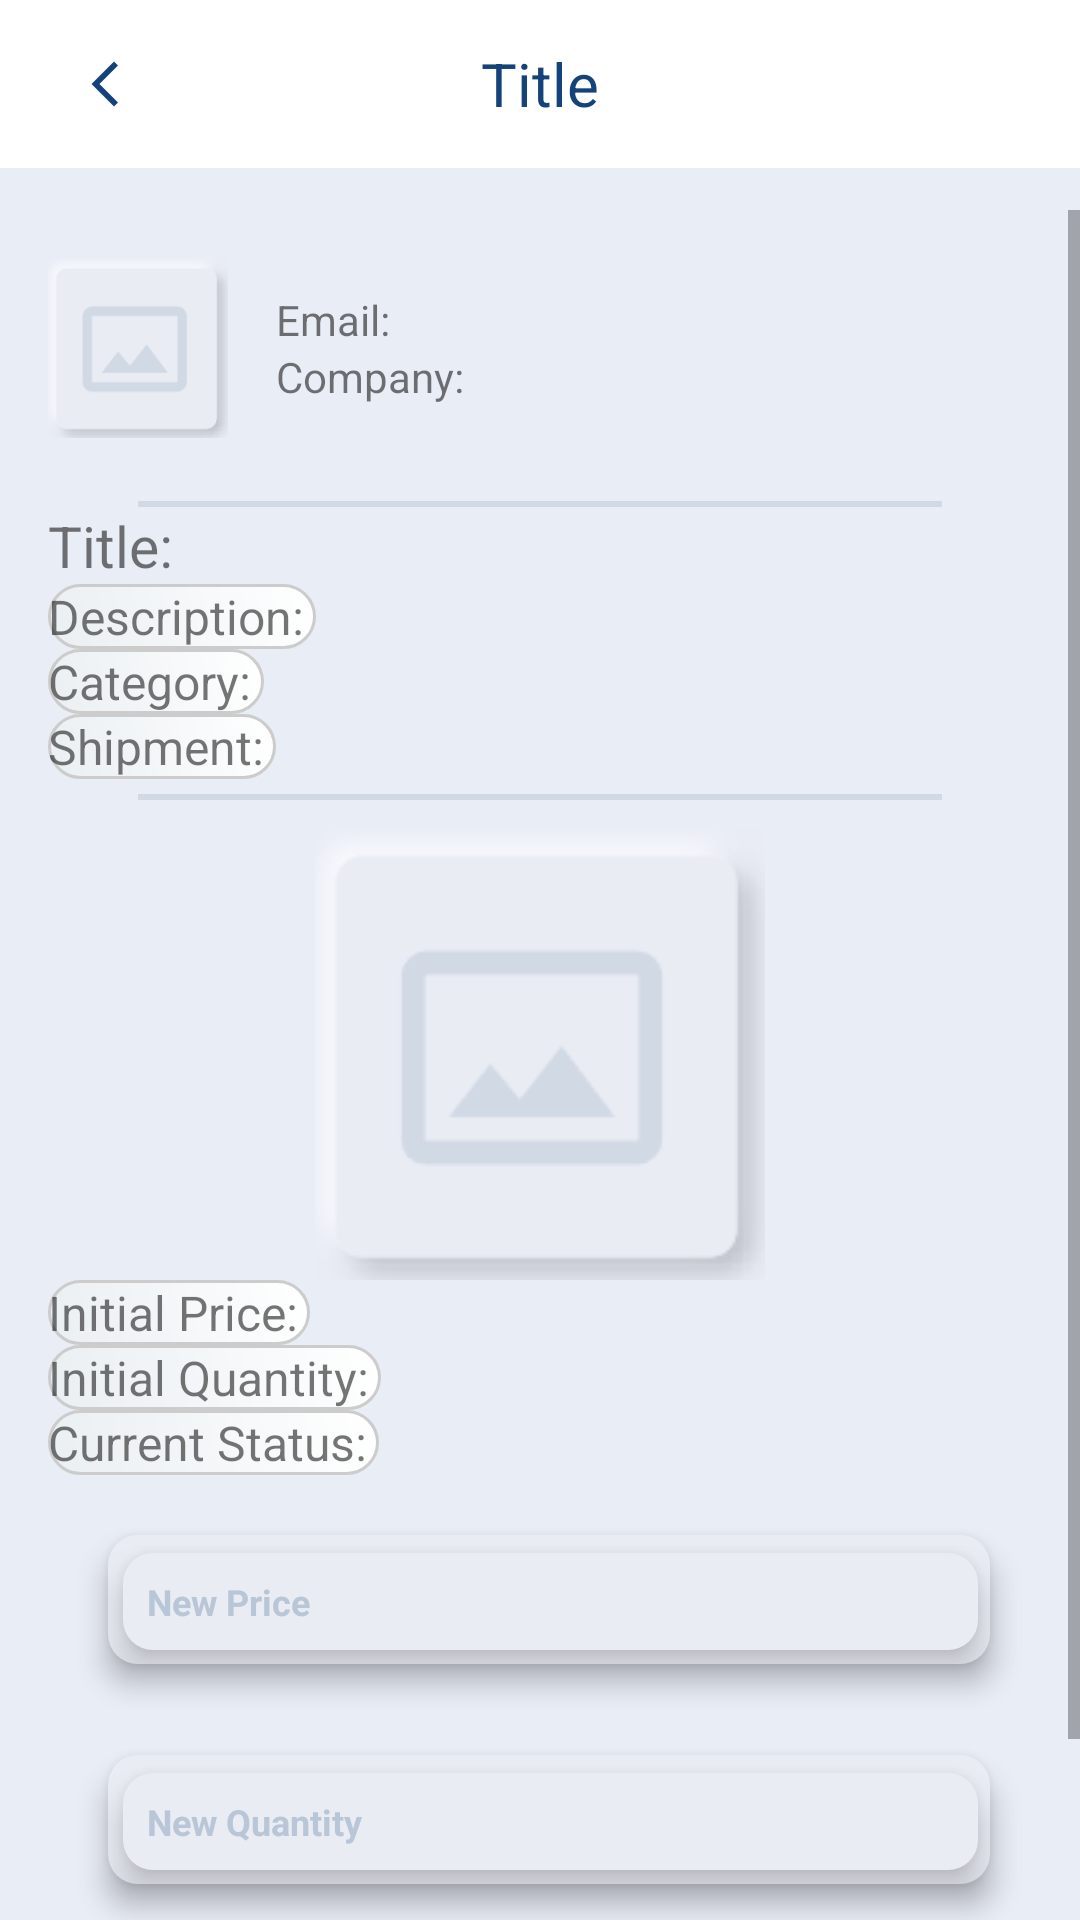

Icon click points for this 1080 x 1920 phone screenshot, format (x=x, y=y):
Back Button: (x=104, y=84)
